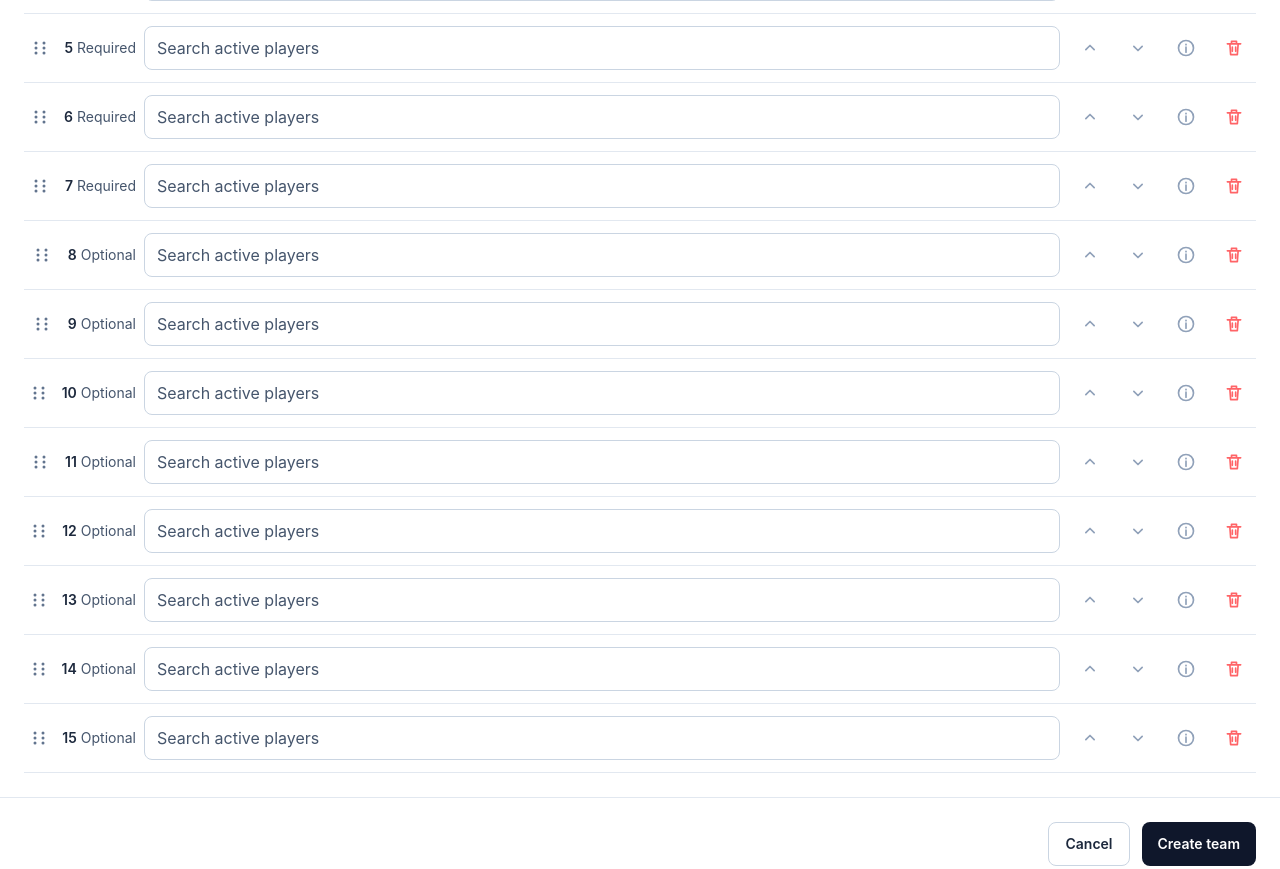
Scenario: TeamForm › renders 15 empty create slots and reports missing required values
(page scrolled)
Click the button "Create team" at [1199, 844], box [1142,822,1256,866]
(page scrolled)
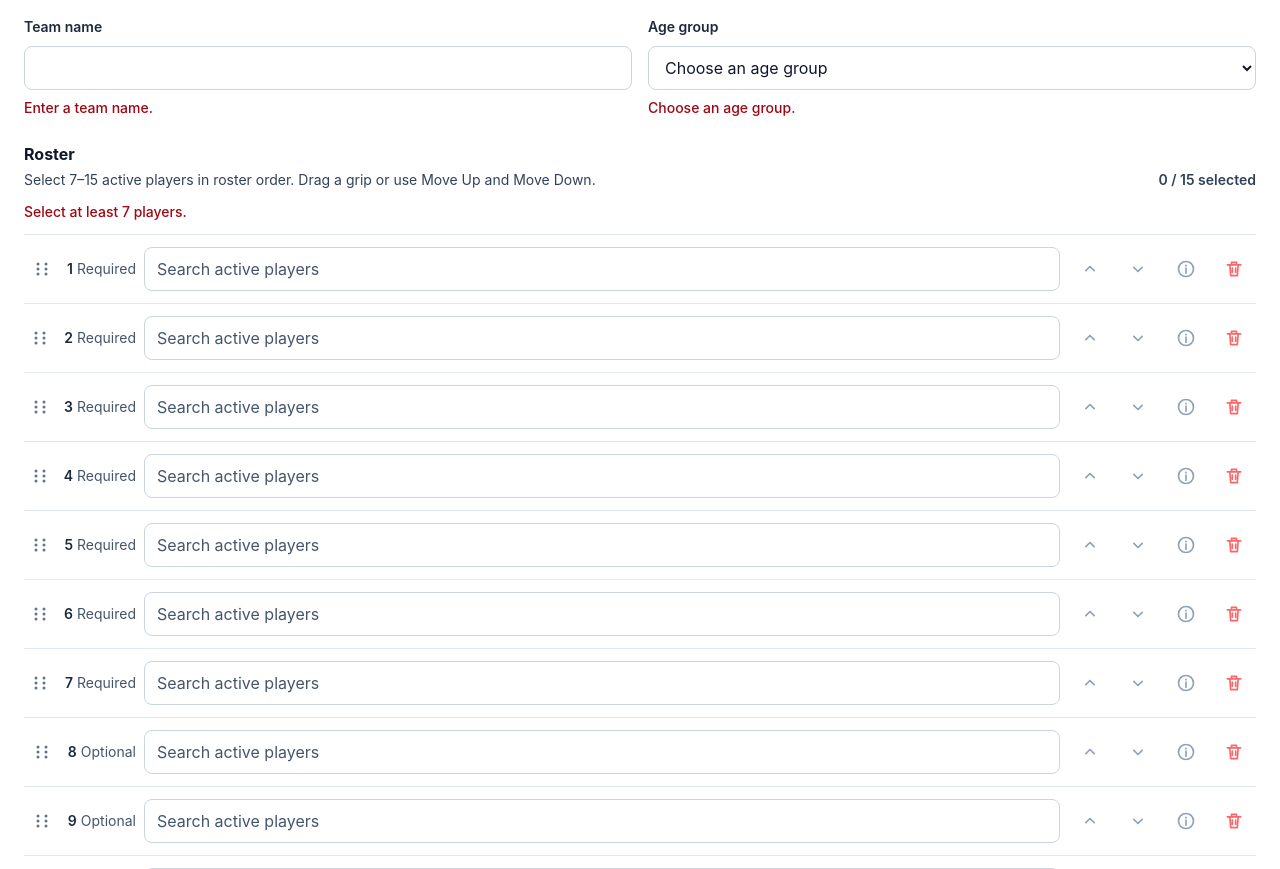
expect the text "Enter a team name." is shown: met, box [24,99,153,116]
expect the text "Choose an age group." is shown: met, box [648,99,795,116]
expect the text "Select at least 7 players." is shown: met, box [24,203,187,220]
